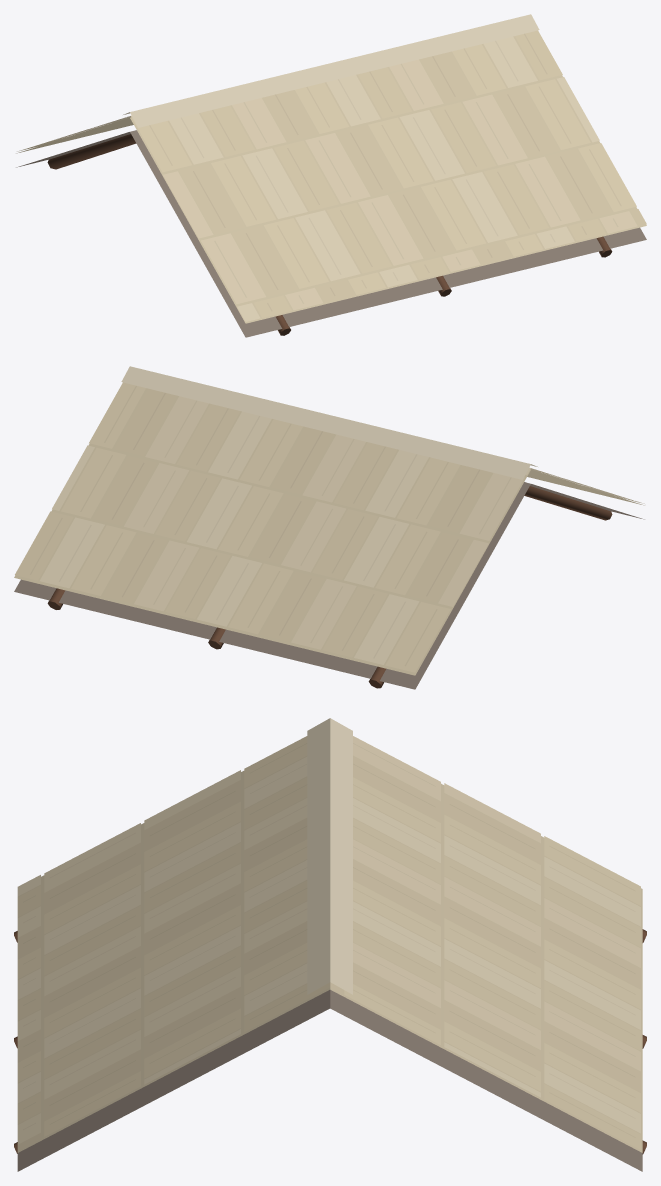
Rendered from Roof_Ridge_30.glb.
3 views of the same model, one above another, from view 1: azimuth 30°, elevation 25°; view 2: azimuth 150°, elevation 25°; view 3: azimuth 270°, elevation 25° (orthographic). The views are drawn at different scales.
Visible parts, largest first — view 1: _MeshInstance3D_3505, _MeshInstance3D_3510, _MeshInstance3D_3501, _MeshInstance3D_3502; view 2: _MeshInstance3D_3501, _MeshInstance3D_3509, _MeshInstance3D_3505, _MeshInstance3D_3506; view 3: _MeshInstance3D_3505, _MeshInstance3D_3501, _MeshInstance3D_3510, _MeshInstance3D_3509.
Part boxes in pixels (x1,y1,x2,y2): _MeshInstance3D_3505: [130, 30, 646, 337]; _MeshInstance3D_3510: [130, 14, 539, 127]; _MeshInstance3D_3501: [16, 116, 133, 167]; _MeshInstance3D_3502: [47, 134, 136, 169]; _MeshInstance3D_3501: [14, 382, 530, 689]; _MeshInstance3D_3509: [121, 366, 530, 479]; _MeshInstance3D_3505: [527, 468, 644, 519]; _MeshInstance3D_3506: [524, 486, 612, 520]; _MeshInstance3D_3505: [17, 736, 330, 1171]; _MeshInstance3D_3501: [330, 736, 642, 1171]; _MeshInstance3D_3510: [307, 718, 330, 994]; _MeshInstance3D_3509: [330, 718, 352, 994].
Bounding box in the file's own units: 3 × 1.08 × 3.04.
